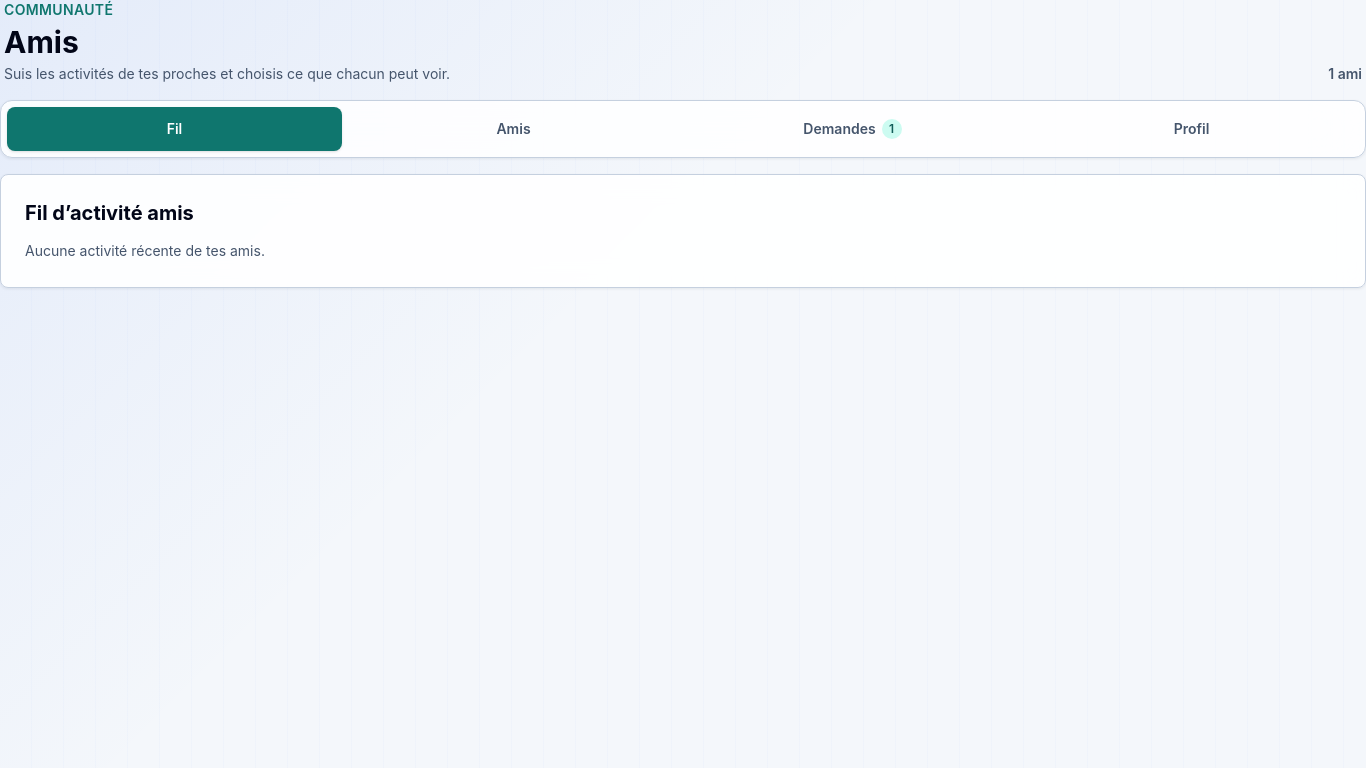
Test: FriendsPrivacyPage › ignore une réponse de disponibilité obsolète
This screenshot has width=1366, height=768.
Click the button with aria-label "Mon profil social" at (1192, 129), box [1024,107,1359,151]
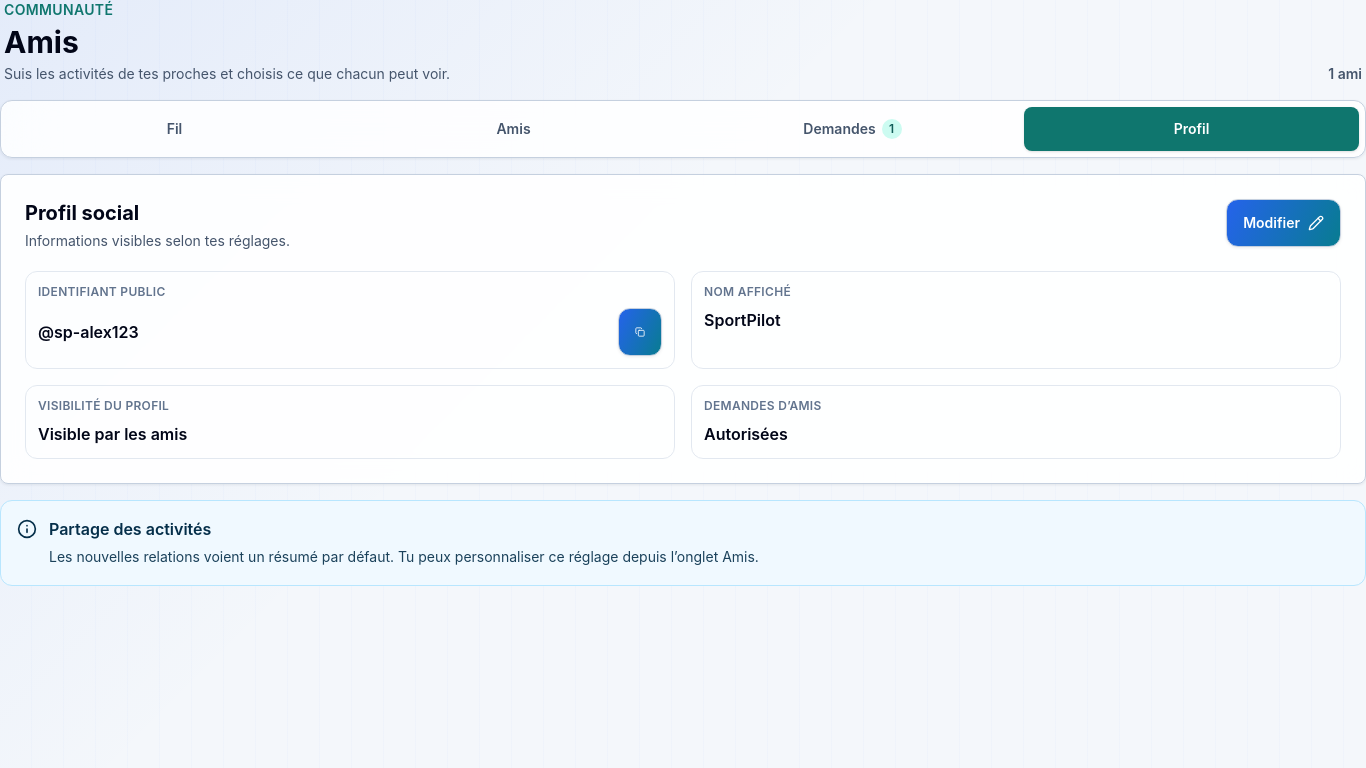
Click the button with aria-label "Modifier le profil public" at (1284, 223), box [1226,199,1341,247]
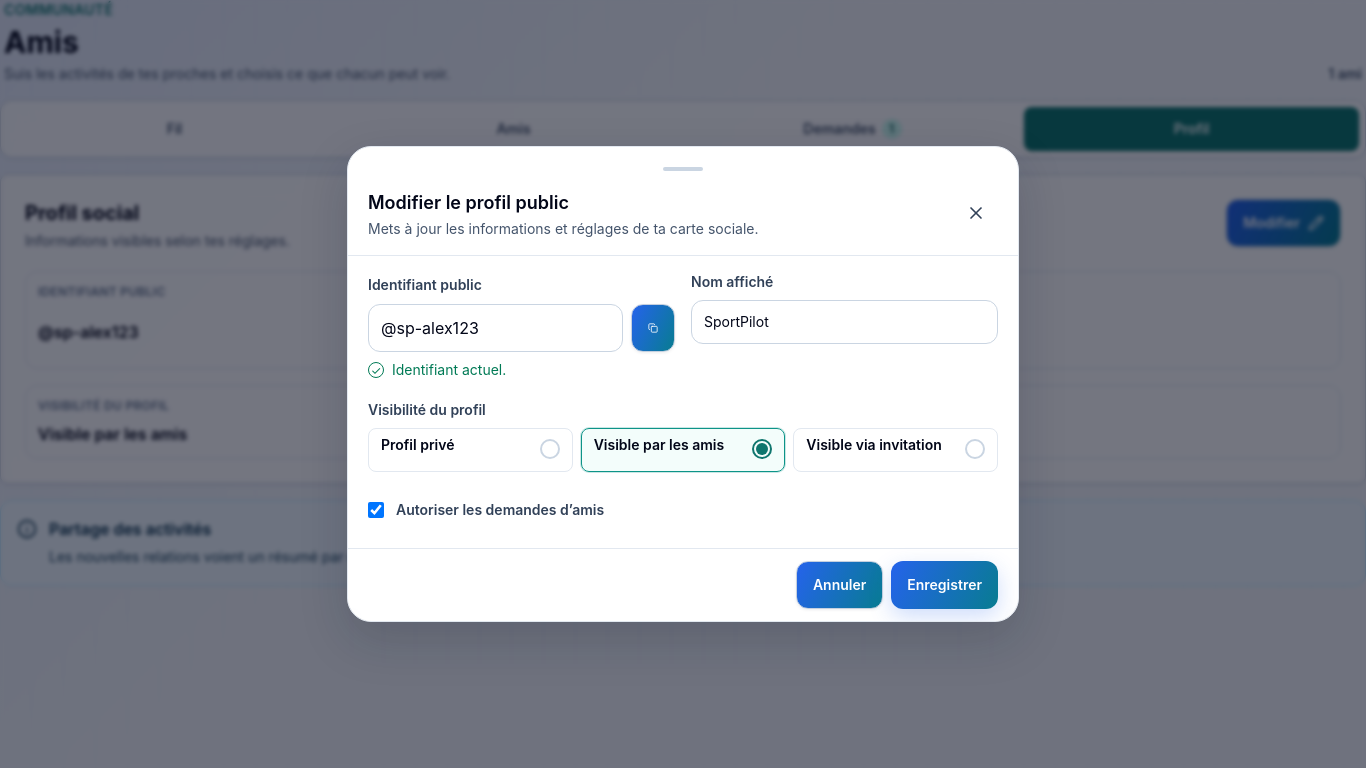
Replace the text in the field labelled "Identifiant public" with "@premier.handle" at (496, 328), box [368,304,623,352]
Wait 350 ms
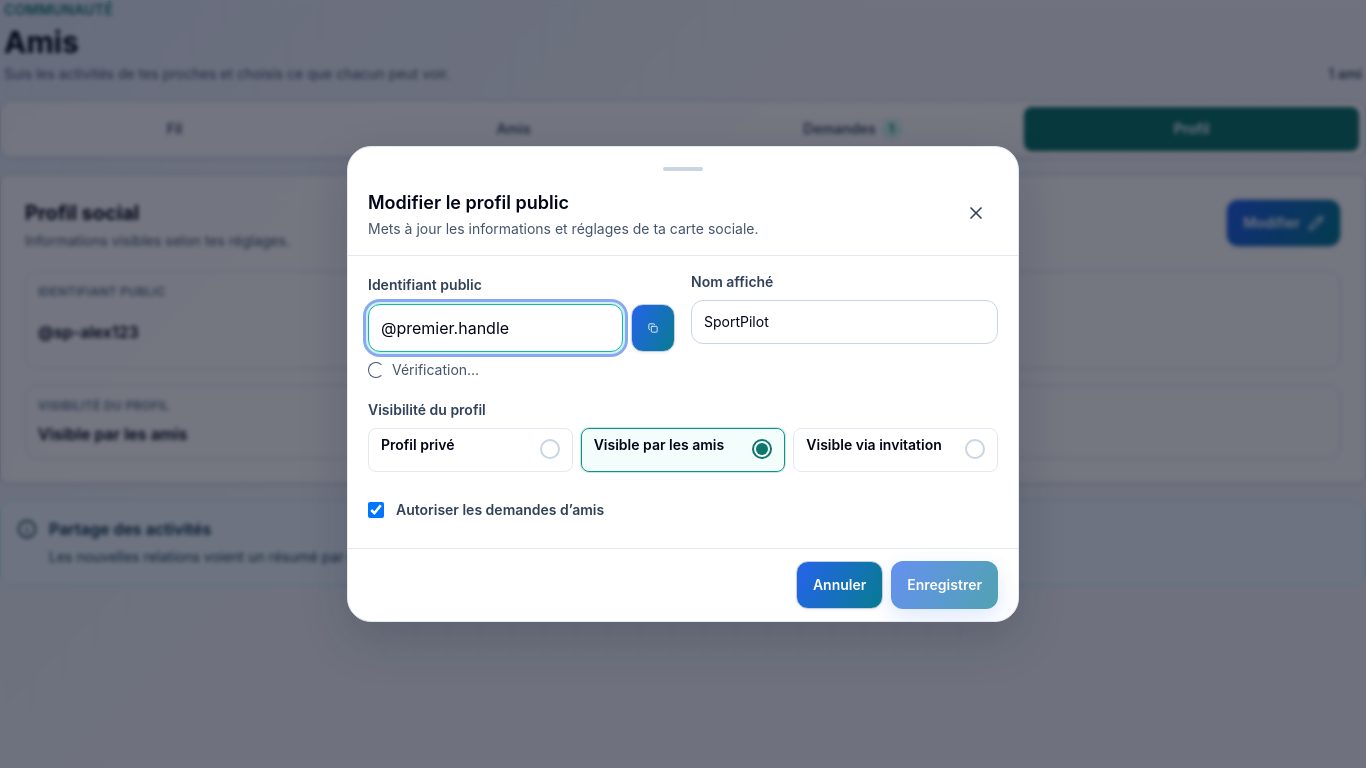
Replace the text in the field labelled "Identifiant public" with "@second.handle" at (496, 328), box [368,304,623,352]
Wait 350 ms
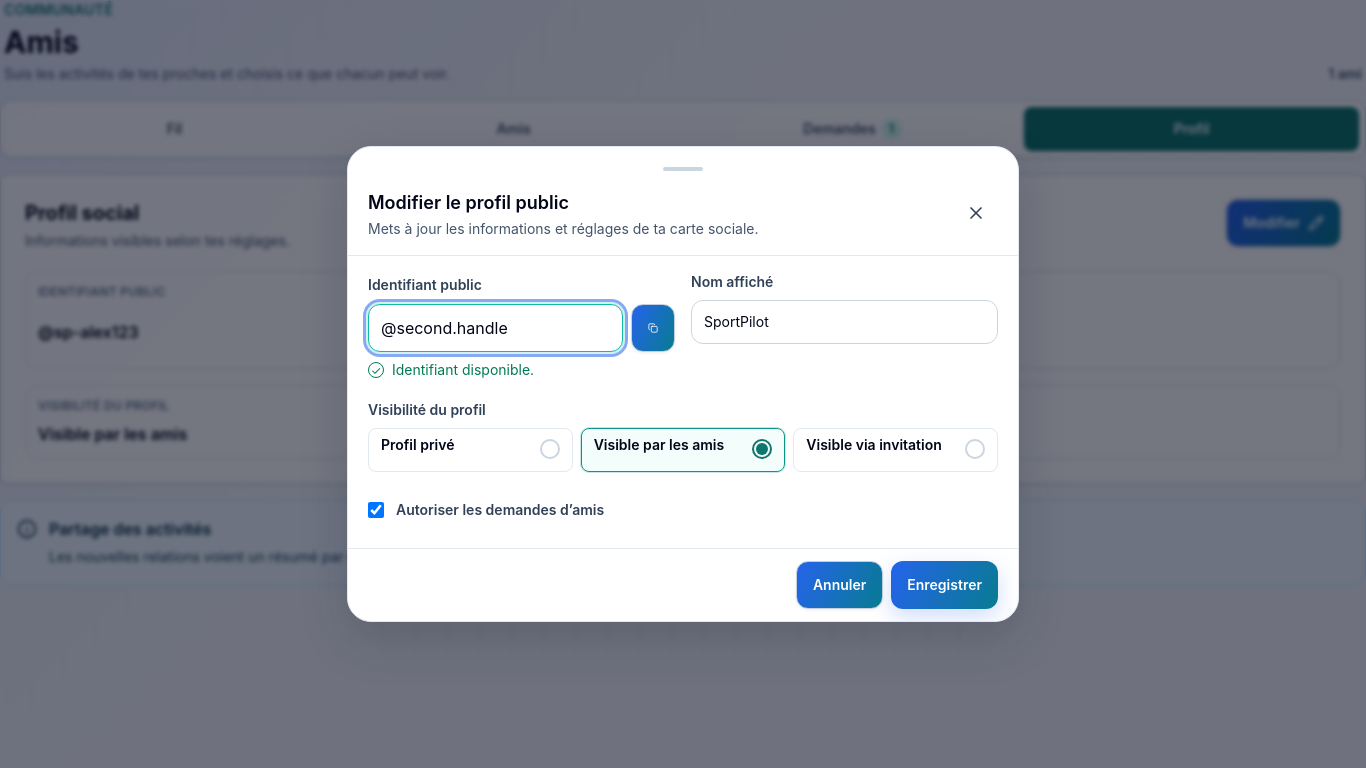
Result: the text "Identifiant disponible." is shown at [392,360,534,380]
